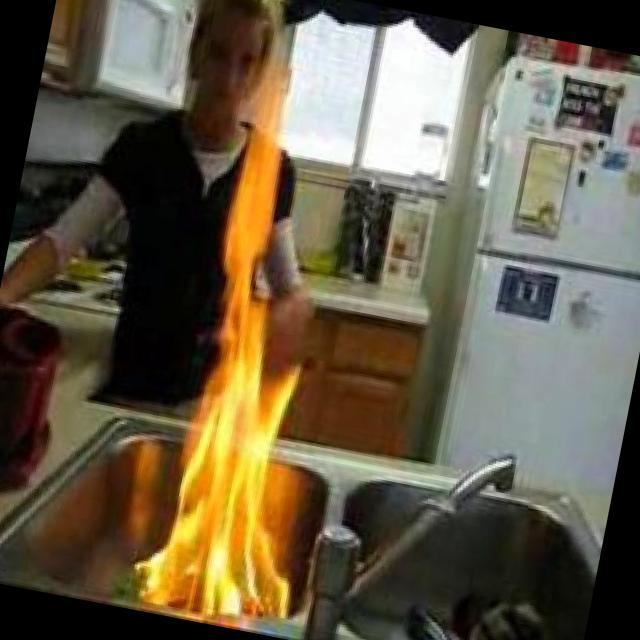Fire: (144, 88, 364, 626)
